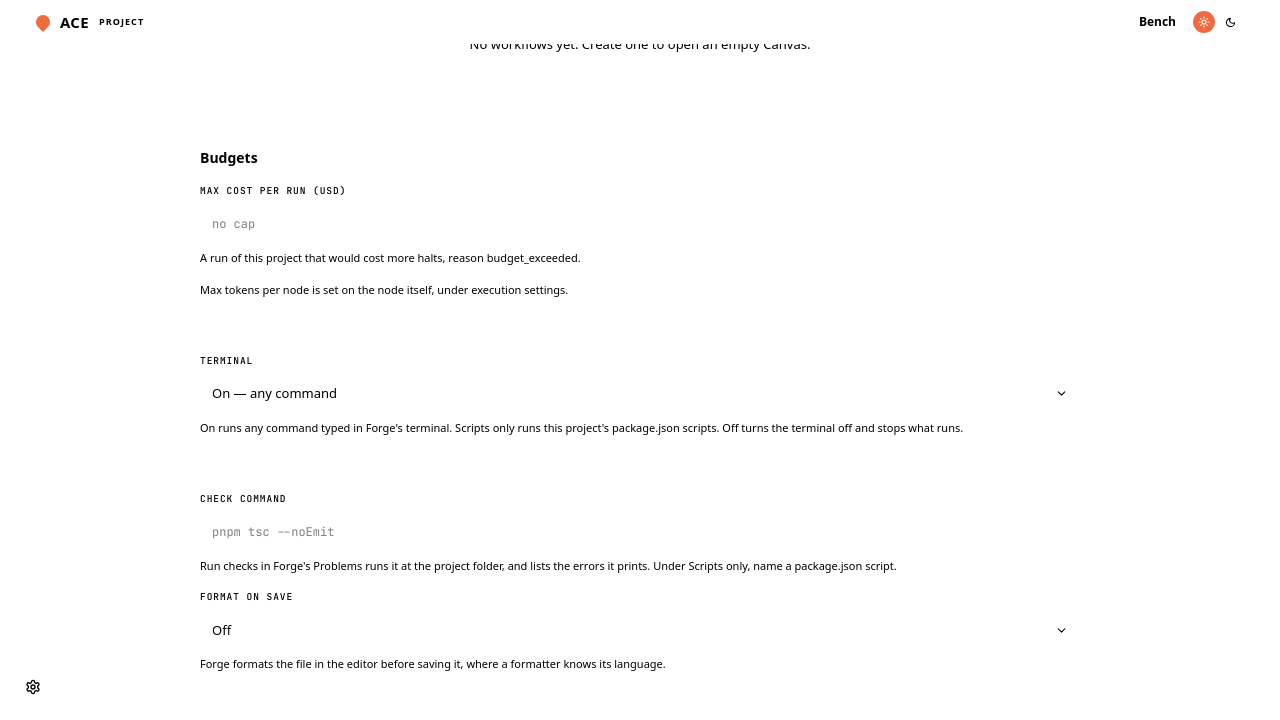
D299 Phase 4 a project names its check command and format-on-save › turns format-on-save on
The image size is (1280, 720).
(page scrolled)
Click the dropdown with test id "project-format-on-save".
click(222, 630)  # box [200,611,1080,649]
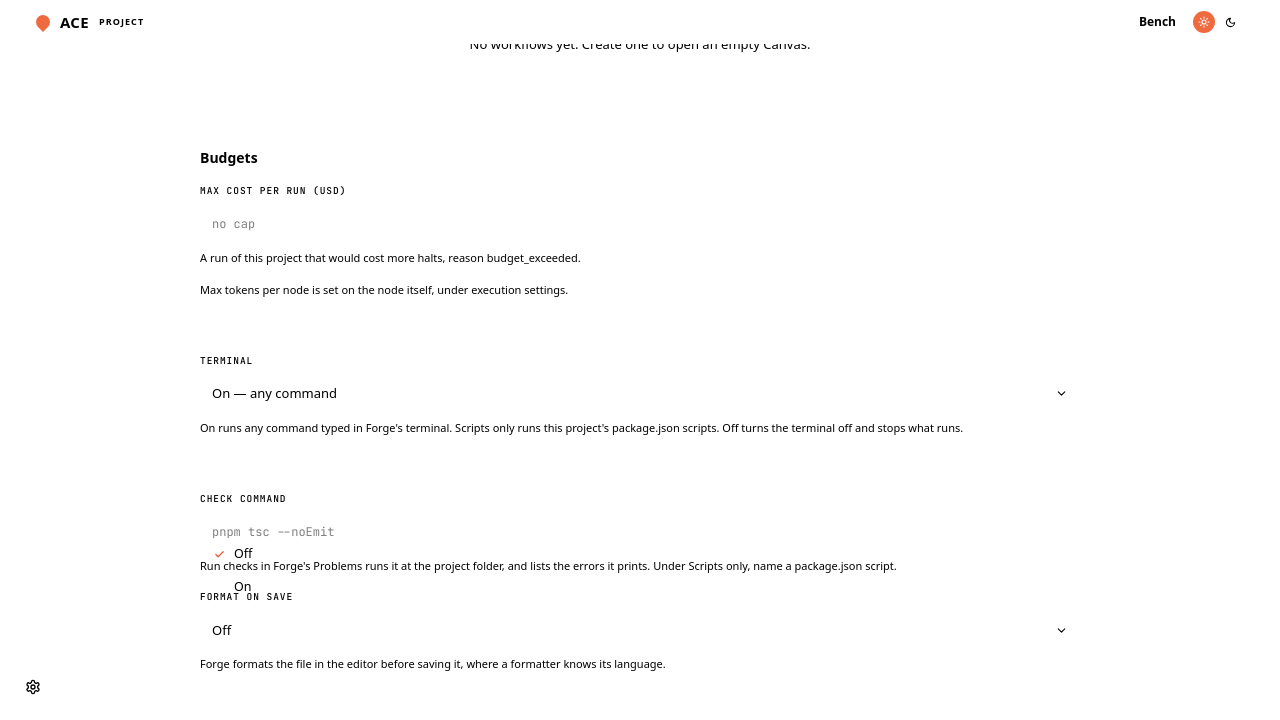
Click the option "On".
click(243, 586)  # box [234,578,252,595]
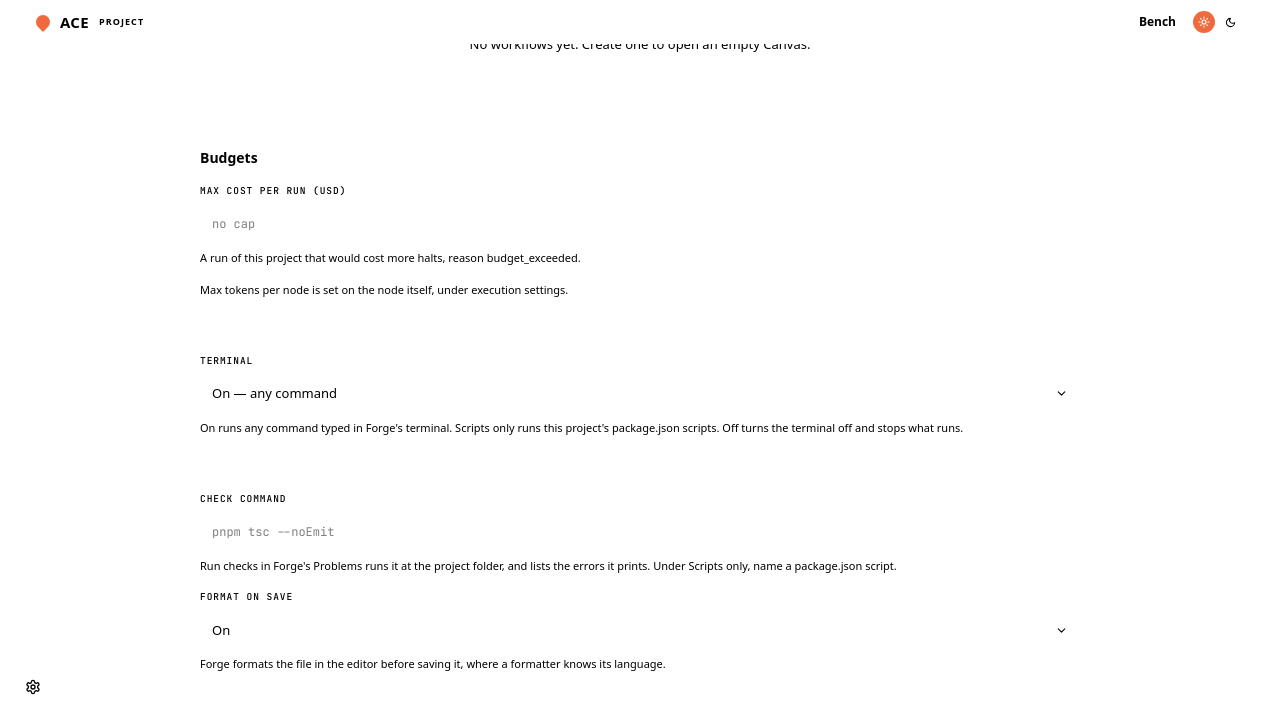
Expected: the dropdown with test id "project-format-on-save" reads "On", [200,611,1080,649]
